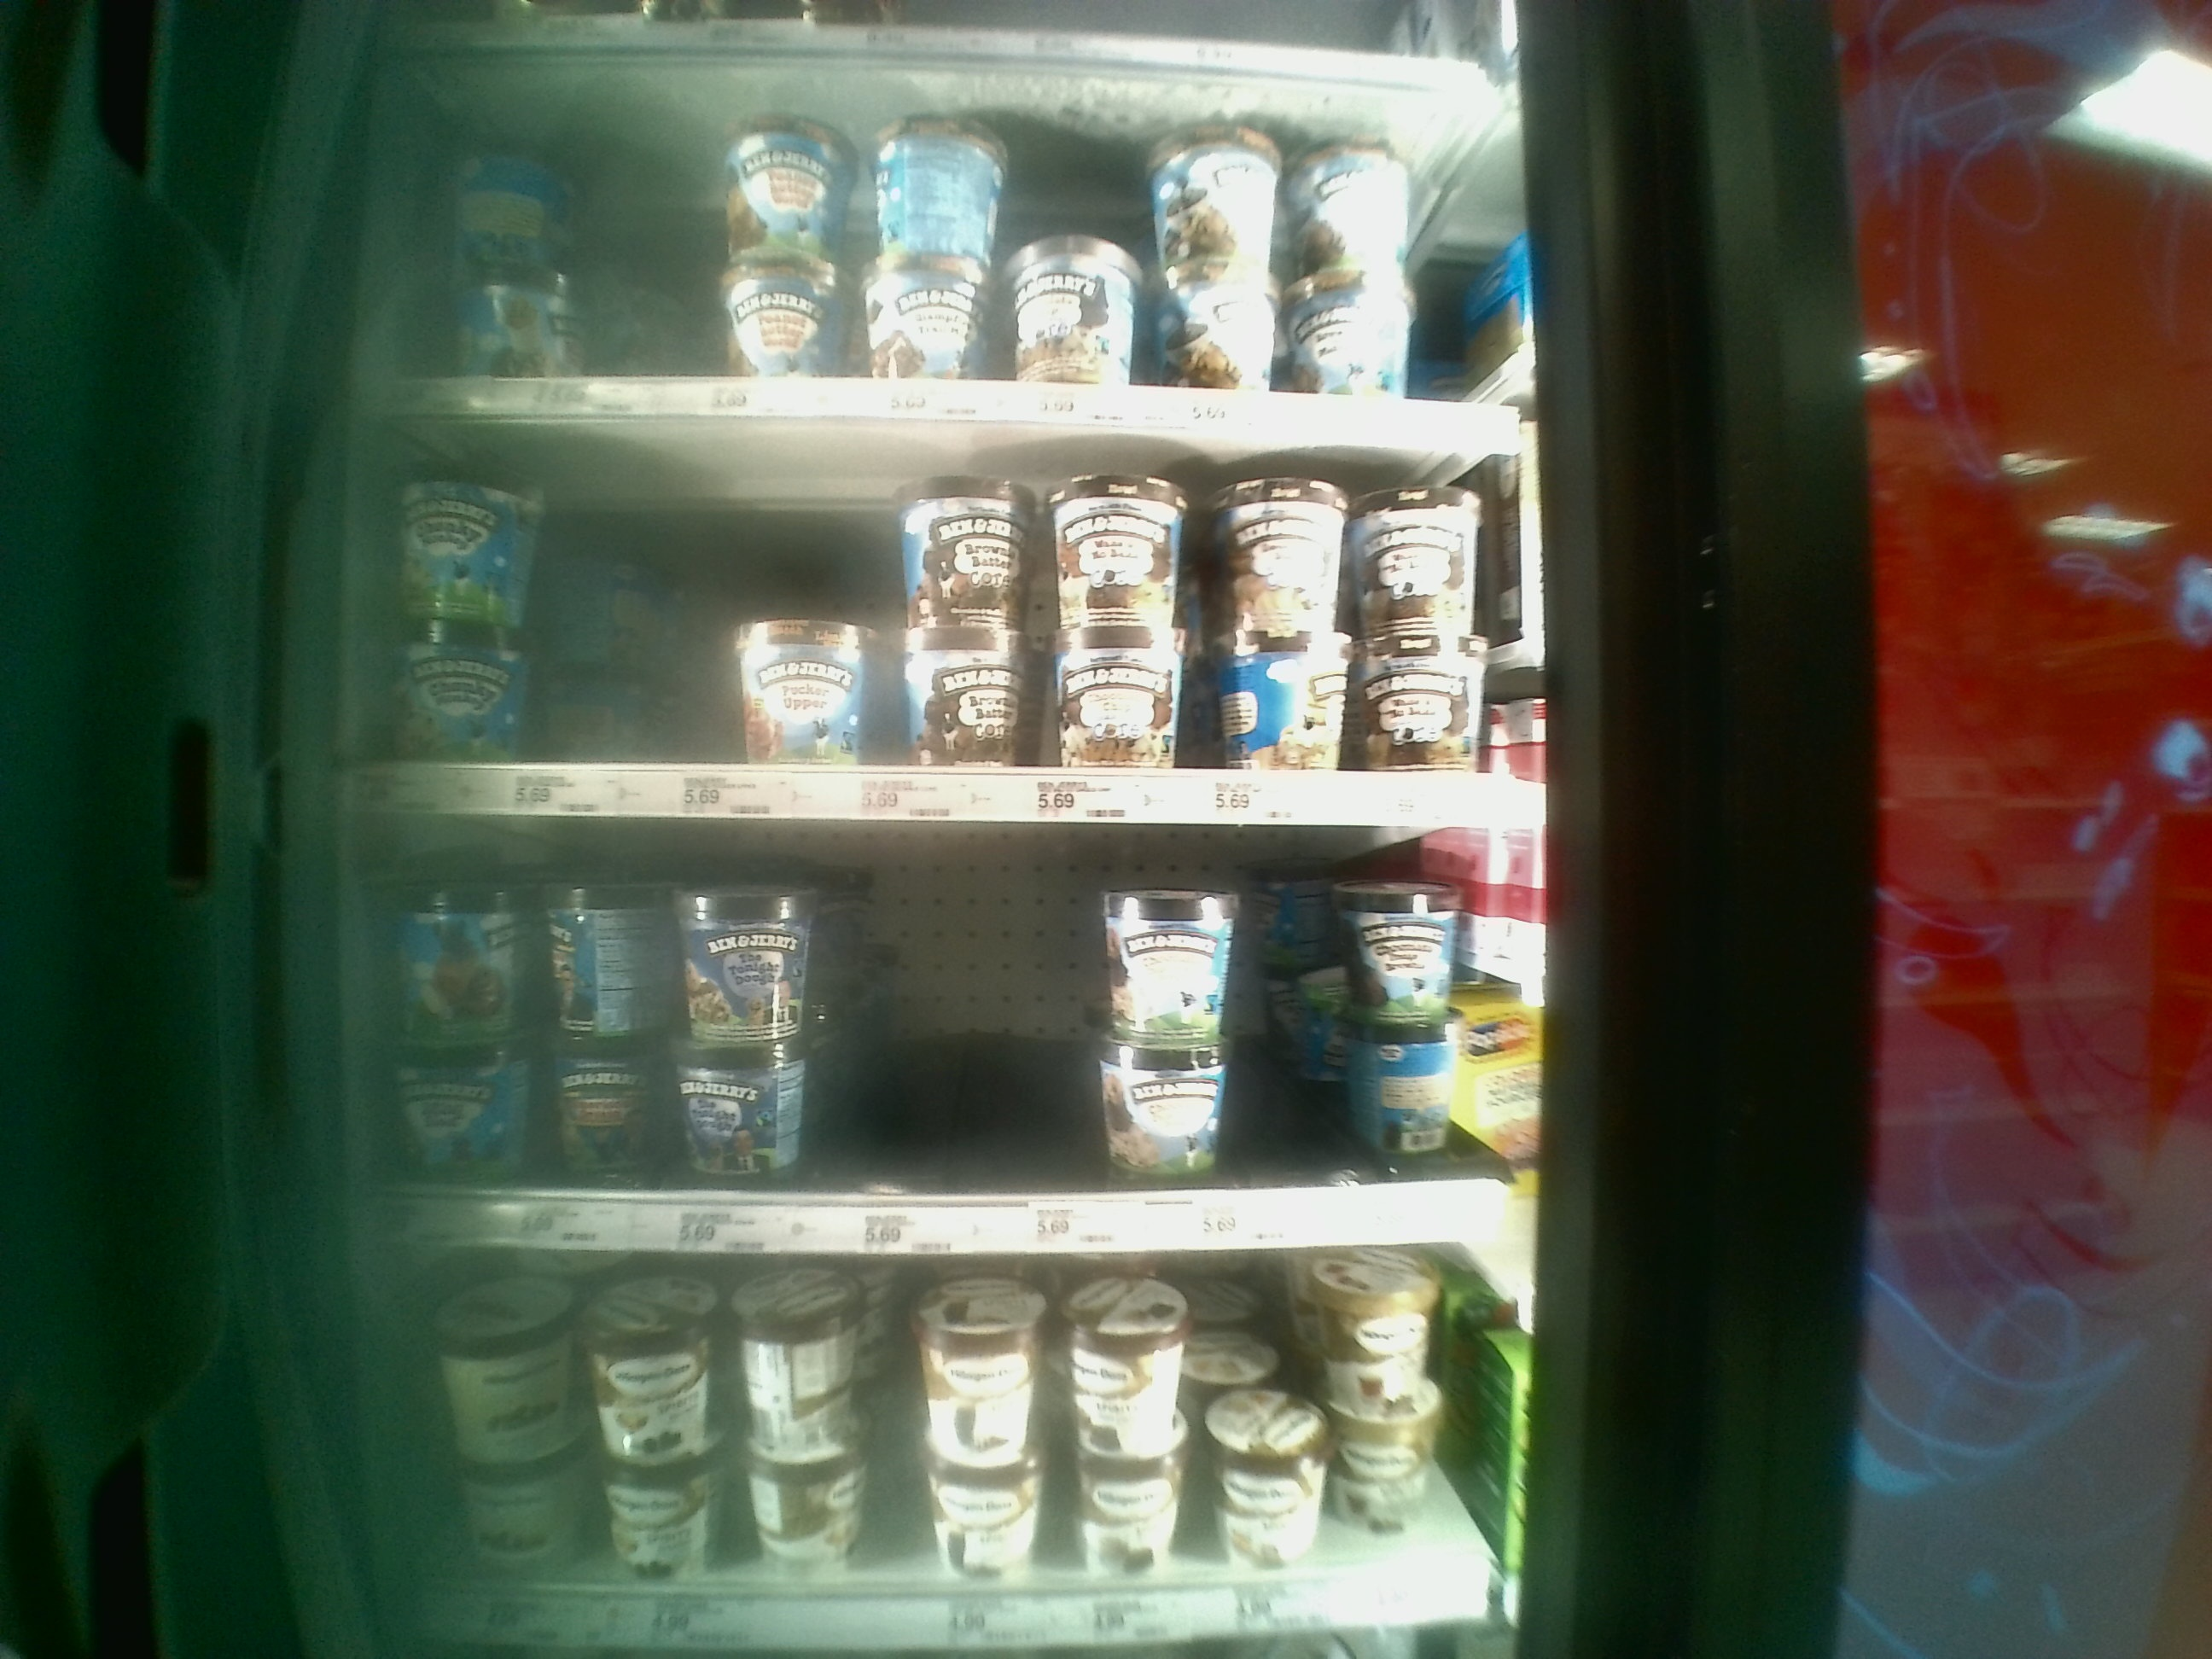ice-cream-shelf: (371, 812, 1529, 1241), (366, 416, 1536, 814), (383, 1246, 1514, 1652)
